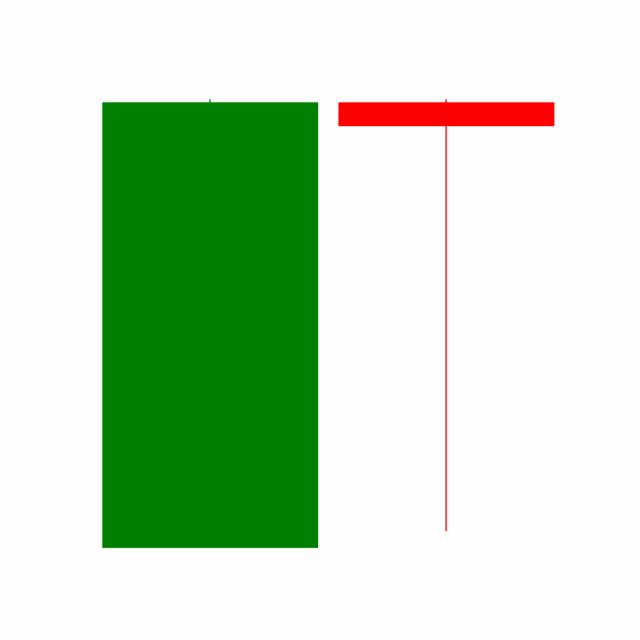Dragonfly Doji: (327, 93, 565, 536)
